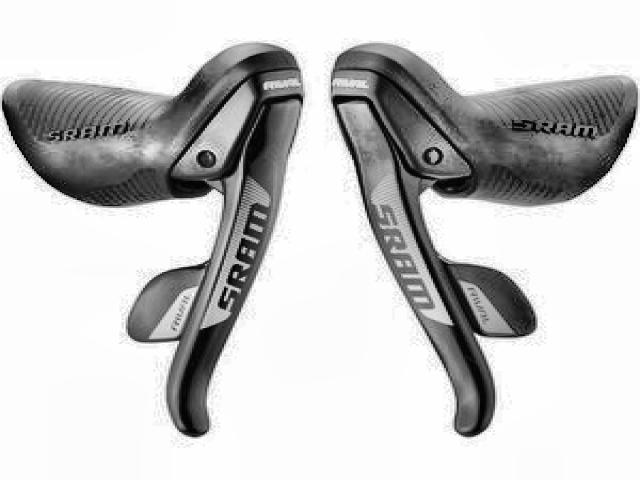sti_shifter: (328, 38, 636, 440), (0, 42, 307, 440)
